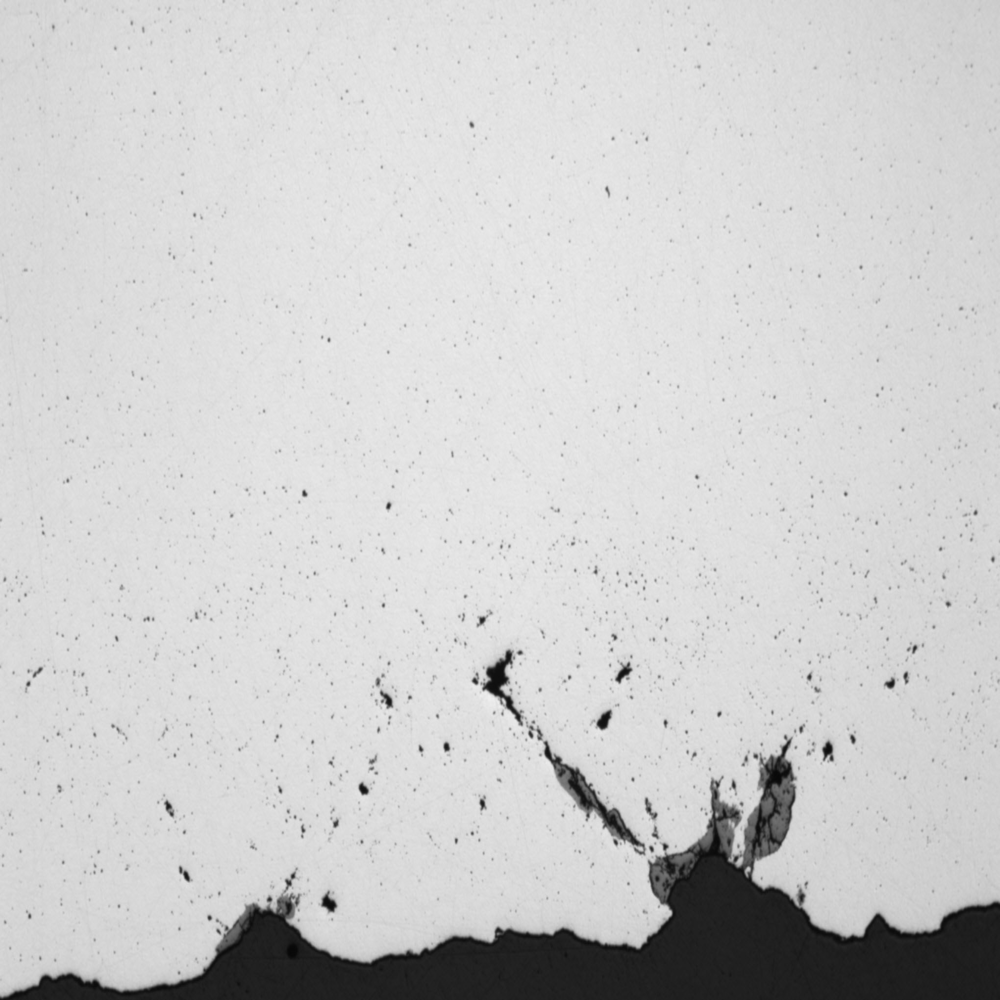crack: (427, 623, 885, 948)
